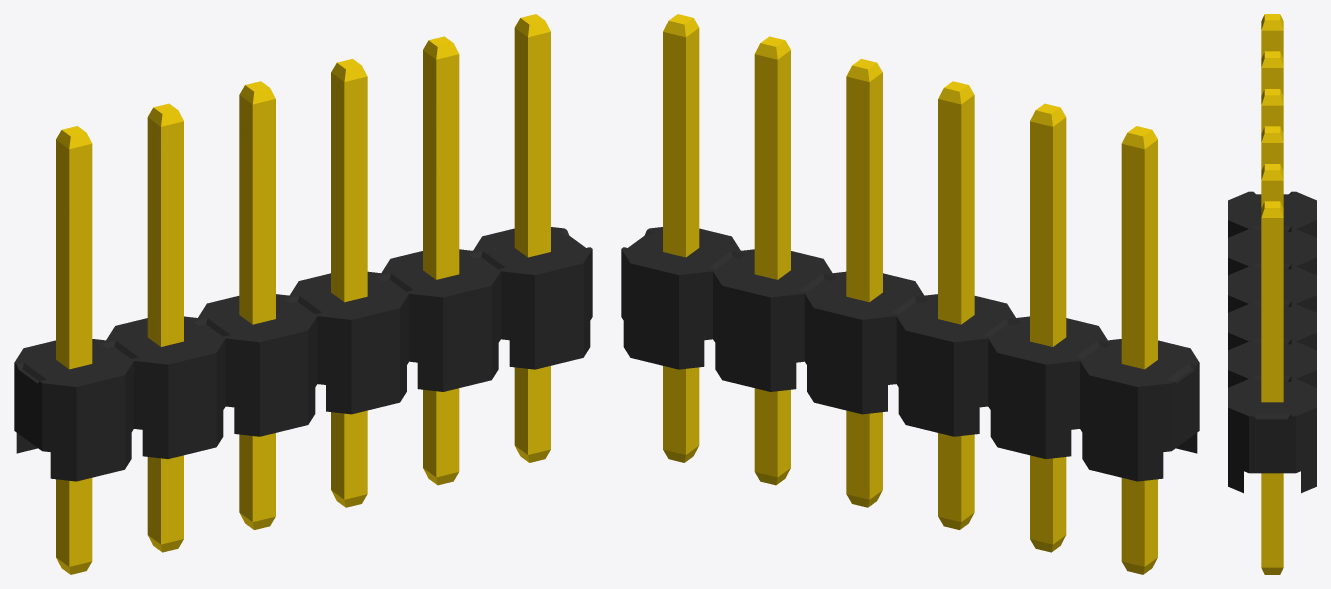
The model's file is PLS6.glb.
The picture shows the model from 3 angles, left to right: view 1: azimuth 30°, elevation 25°; view 2: azimuth 150°, elevation 25°; view 3: azimuth 270°, elevation 25°; orthographic projection. The views are drawn at different scales.
Parts seen in each view (by area): view 1: PLS (DS1021 CONNFLY); view 2: PLS (DS1021 CONNFLY); view 3: PLS (DS1021 CONNFLY).
Boxes of the visible parts, x1=… form: PLS (DS1021 CONNFLY): x1=14, y1=14, x2=592, y2=574; PLS (DS1021 CONNFLY): x1=621, y1=14, x2=1199, y2=574; PLS (DS1021 CONNFLY): x1=1228, y1=14, x2=1316, y2=574.
Size of the model in its own units: 0.0152 by 0.0116 by 0.00254.
